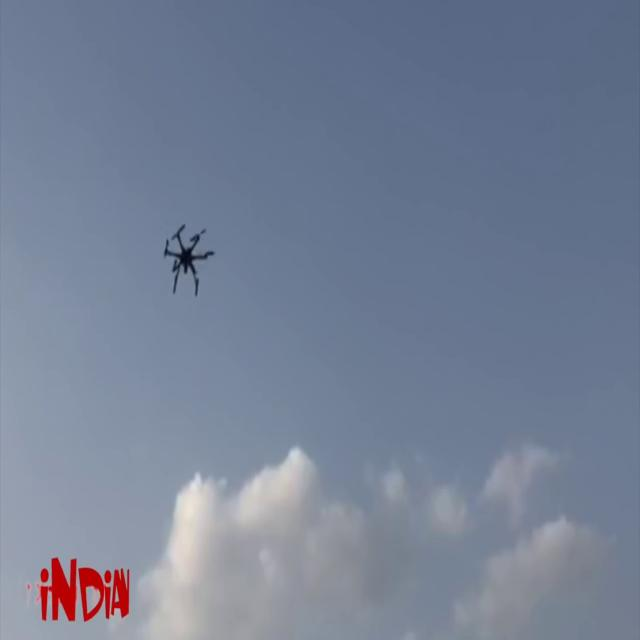drone: (154, 216, 220, 306)
